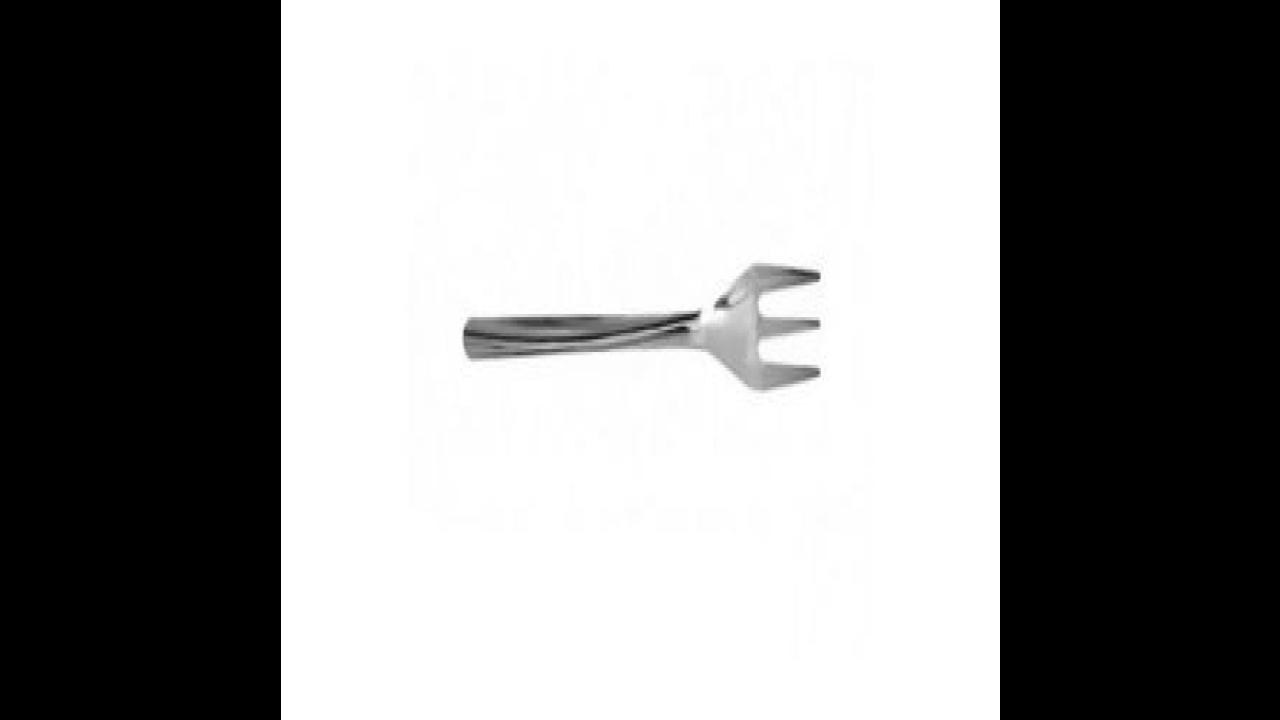fork: (463, 260, 823, 390)
